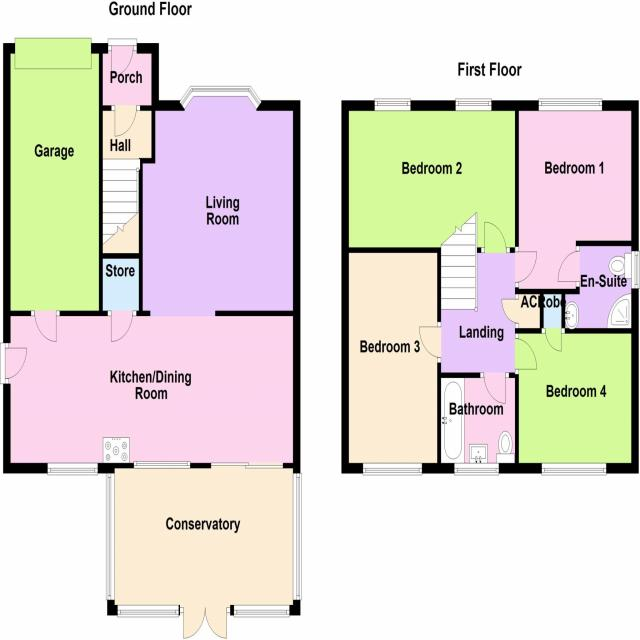DOOR: (108, 38, 137, 79), (30, 310, 60, 345), (515, 246, 540, 288), (418, 321, 442, 363), (480, 372, 509, 406), (481, 219, 510, 253), (108, 310, 137, 343), (111, 105, 140, 138), (515, 333, 538, 374), (557, 246, 580, 287), (542, 328, 565, 352)
ROOM: (3, 79, 302, 474), (341, 98, 519, 252), (515, 99, 640, 295), (341, 247, 441, 475), (515, 328, 639, 476)
WINDOW: (178, 83, 264, 110), (102, 471, 117, 603), (292, 470, 303, 602), (360, 460, 424, 478), (117, 603, 181, 620), (540, 461, 608, 477), (538, 97, 604, 113), (233, 603, 291, 620), (46, 461, 99, 477), (453, 461, 500, 478), (132, 459, 192, 472), (624, 250, 640, 290), (373, 97, 412, 113), (455, 97, 493, 113)
